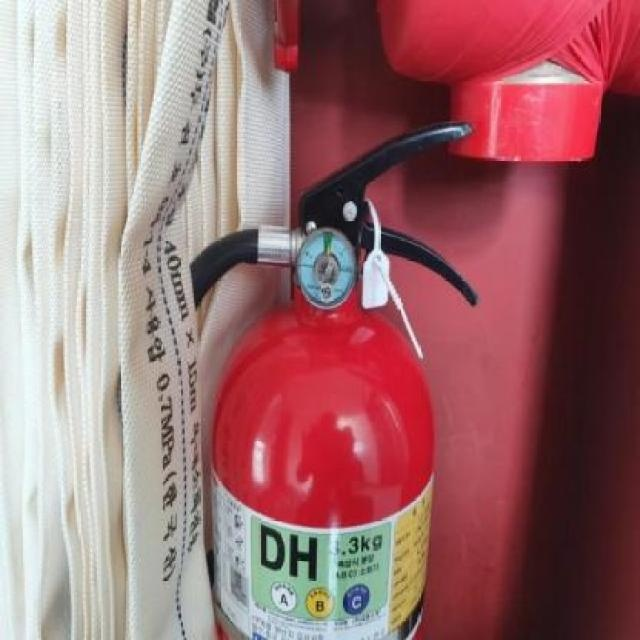fire extinguisher: (188, 120, 481, 640)
